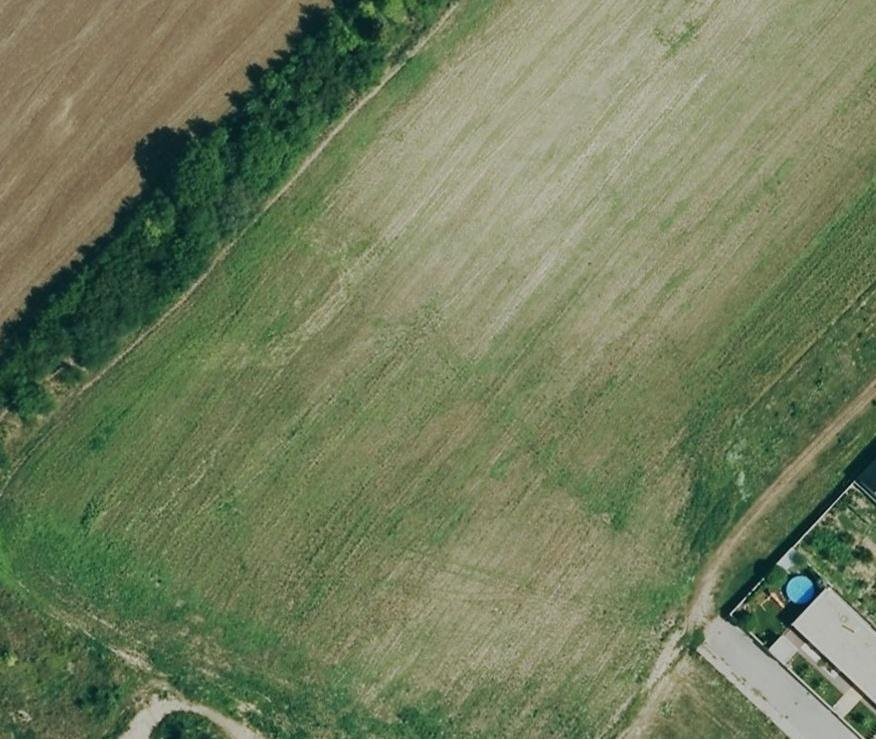field: (0, 3, 876, 736), (0, 0, 323, 324), (0, 583, 145, 737)
forest: (0, 0, 448, 417)
